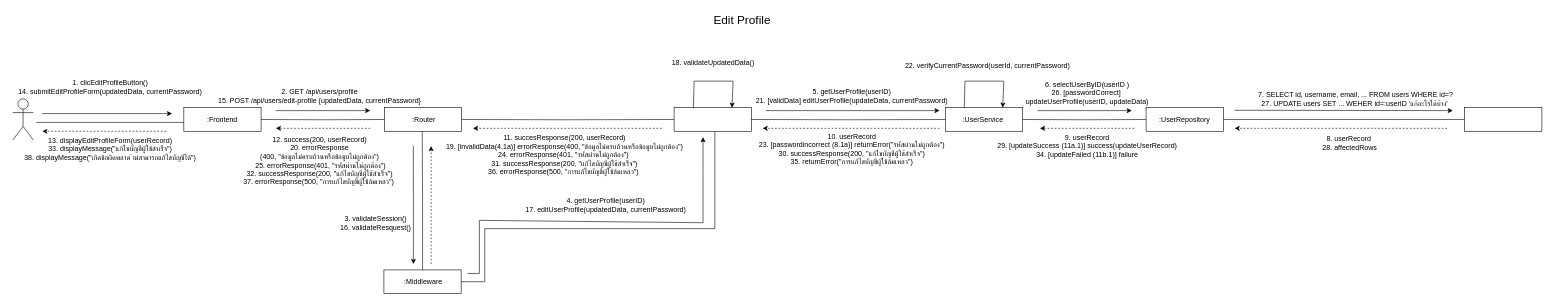
Image size: 1553x304. Some labels were removed from this diagram. Here are the shapes that lost their labels. From the top down, the centre of each, then its label:
At pixel 22 119: "User".
At pixel 712 119: ":UserController".
At pixel 1503 119: ":Database".
